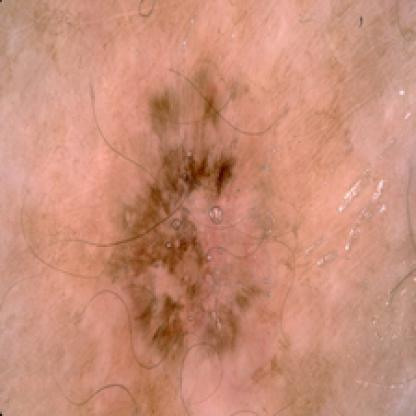malignant: (117, 108, 240, 340)
